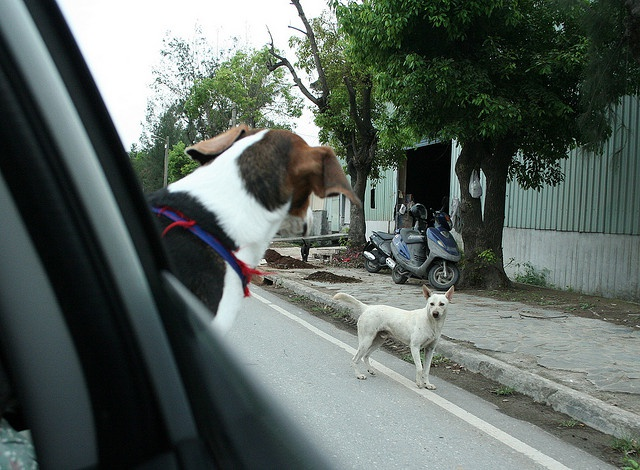non-vehicle: (386, 205, 467, 290), (361, 230, 395, 271)
